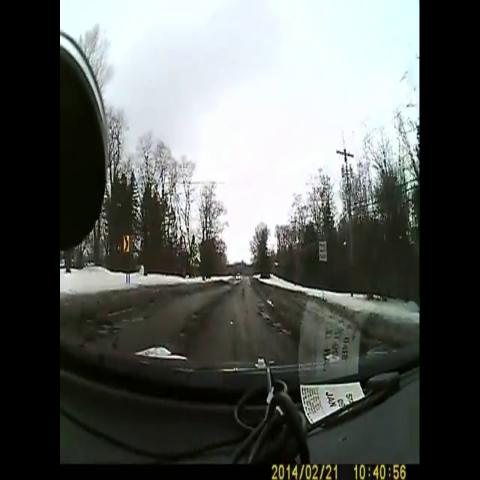pothole: (173, 300, 209, 347)
